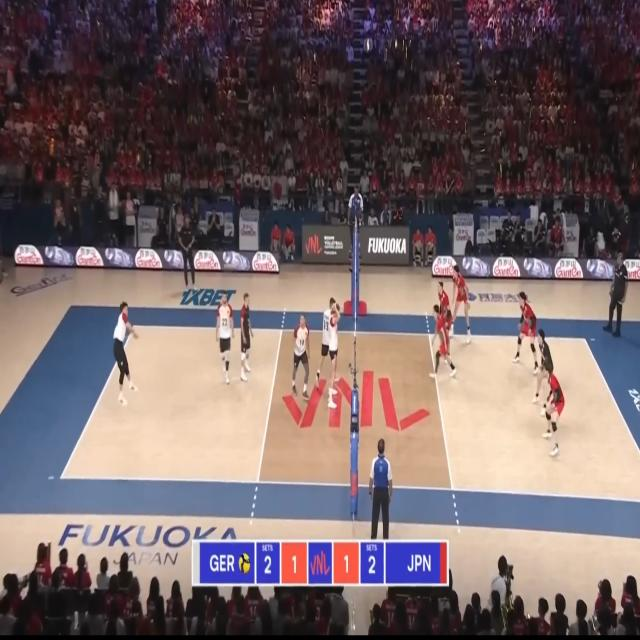ball: (225, 262, 237, 270)
